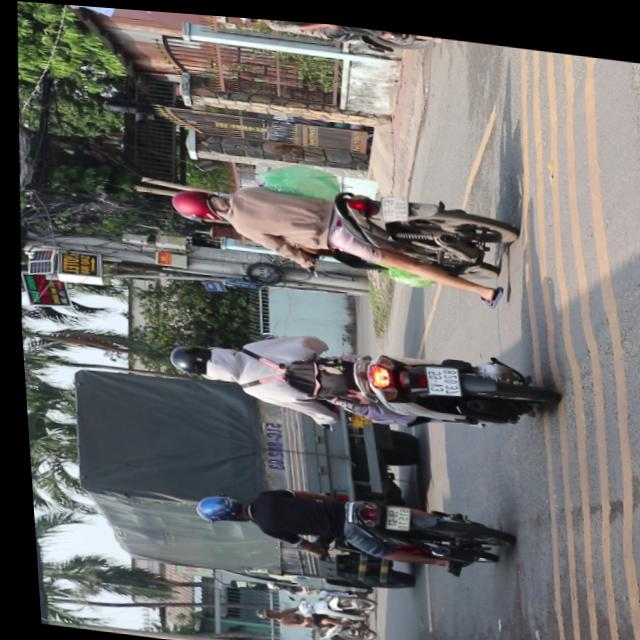helmet: (152, 154, 523, 310), (160, 336, 236, 379), (164, 183, 226, 222), (186, 487, 243, 522)
licenseplate: (153, 310, 551, 442), (182, 469, 503, 577)
nohelmet: (419, 359, 456, 391), (374, 188, 405, 215), (376, 499, 402, 526)
